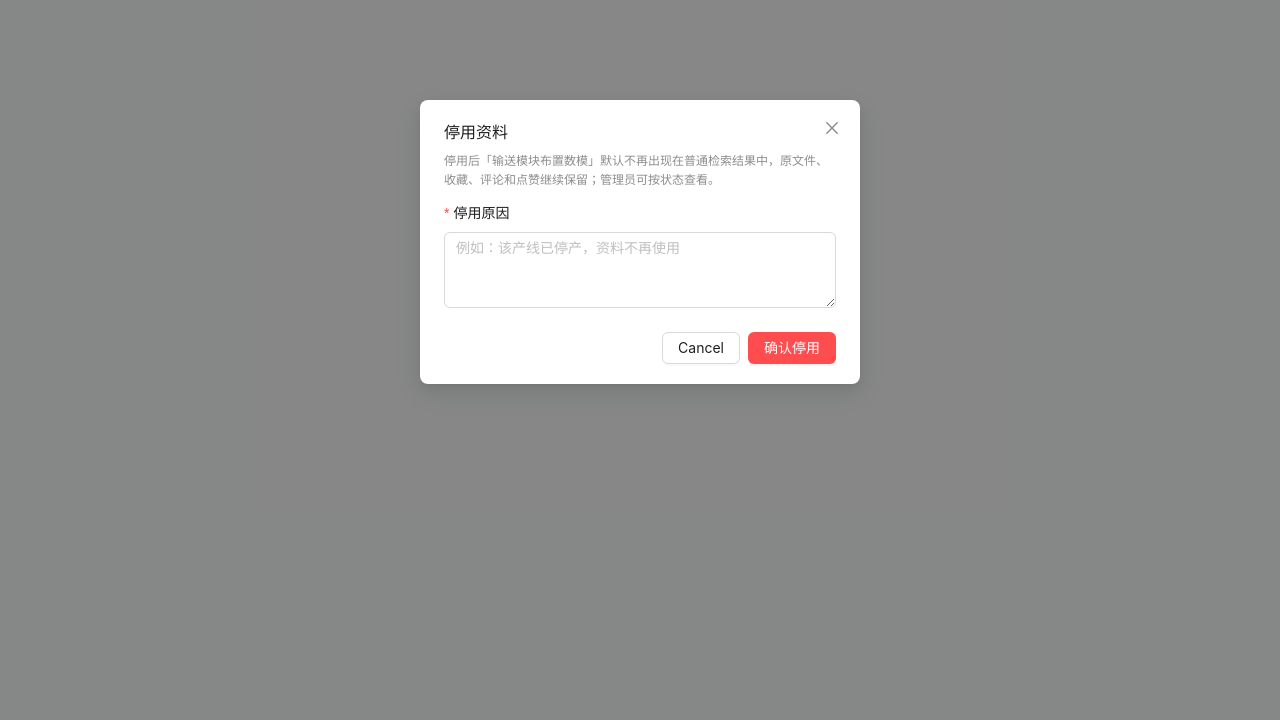
Test case: DisableDialog › requires a reason before submitting
This screenshot has width=1280, height=720.
Step 1. Click the button "确认停用" → (792, 348), box [748,332,836,364]
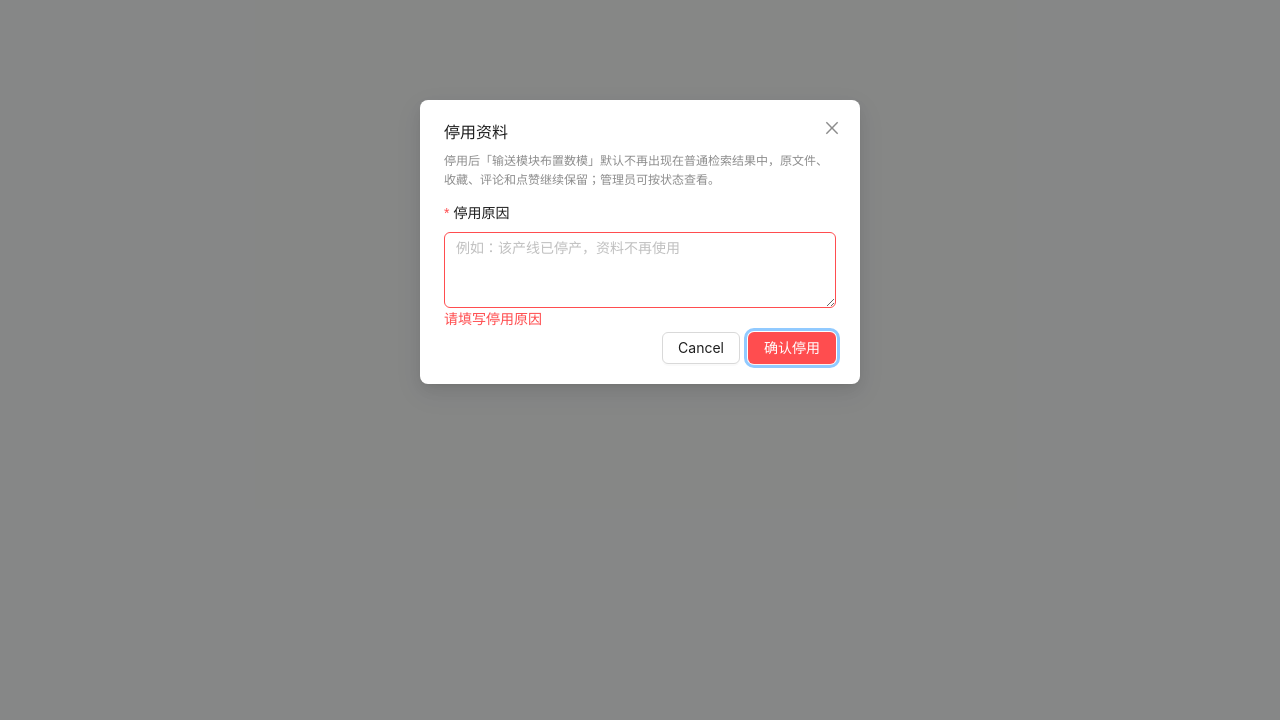
Result: the text "请填写停用原因" is shown at [444,310,542,327]
